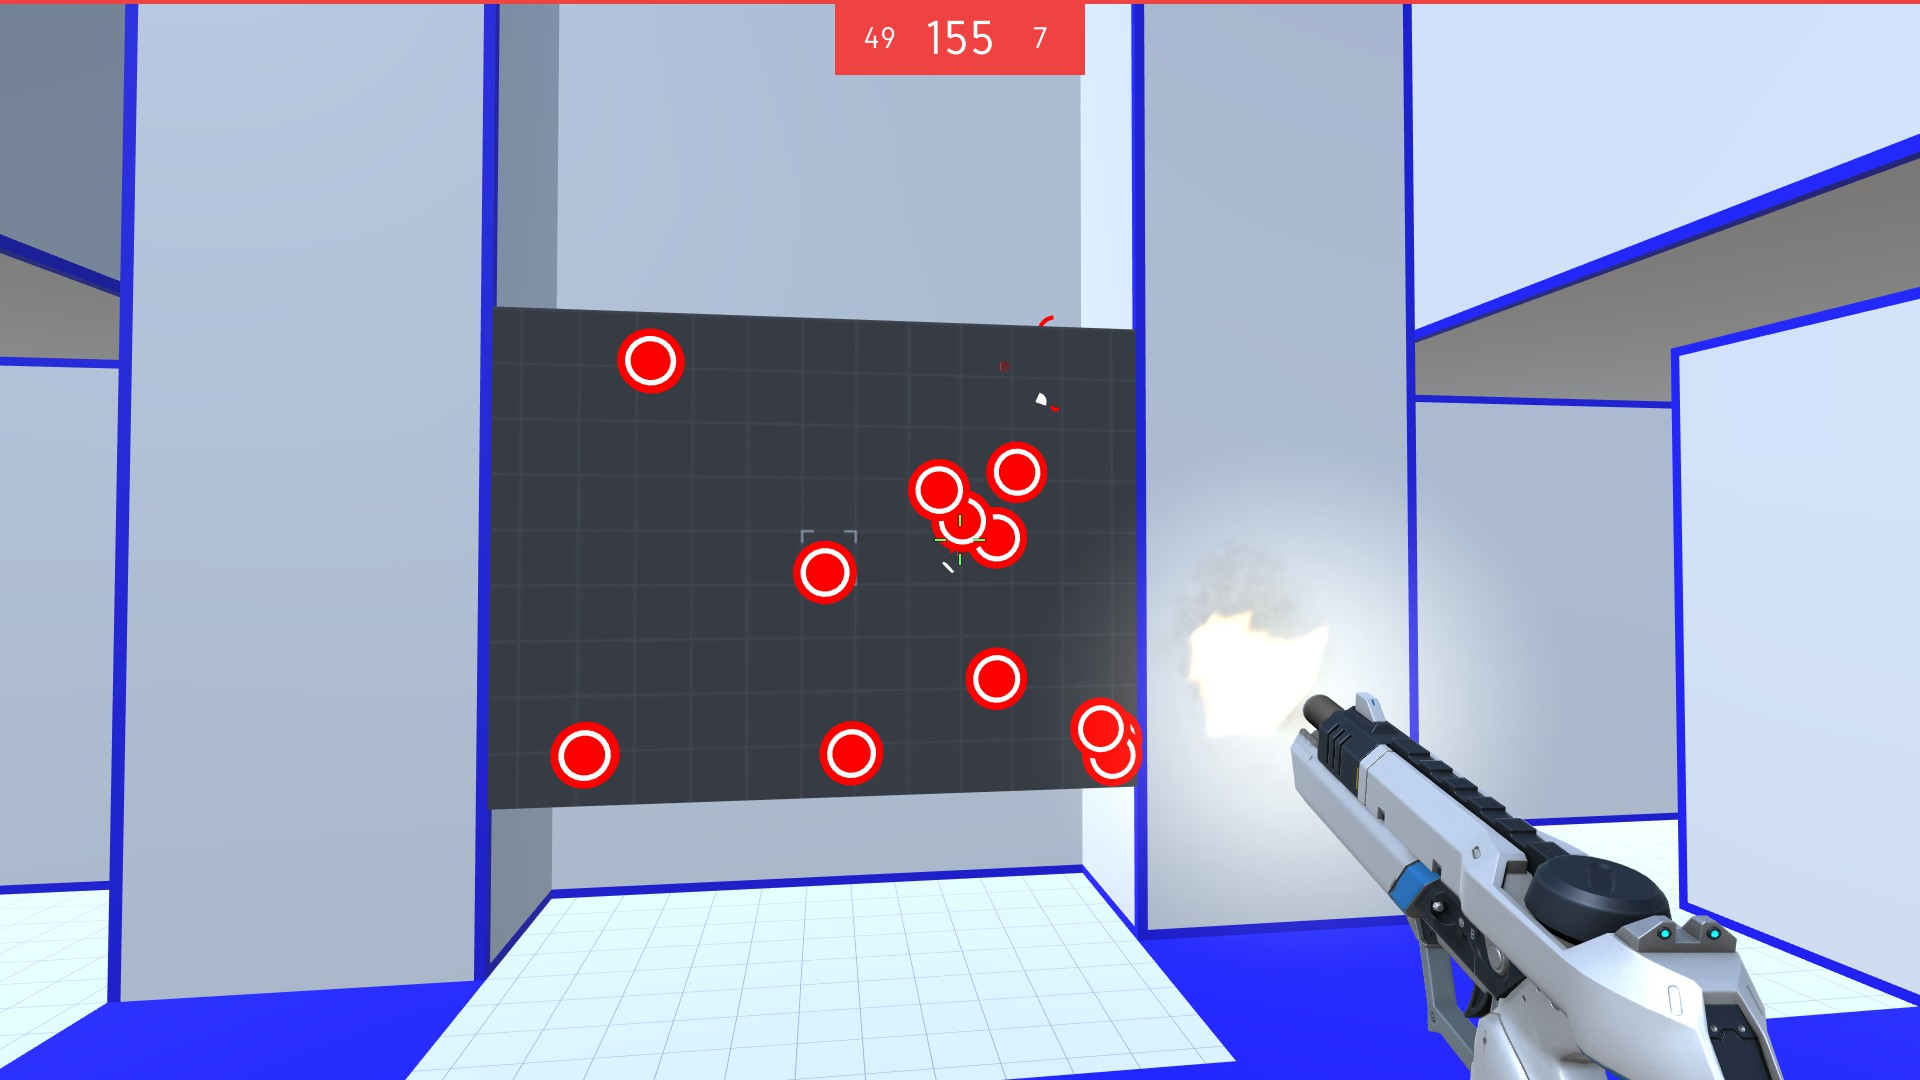target: (553, 717, 622, 794), (617, 326, 688, 396), (791, 535, 857, 607), (820, 716, 886, 787), (957, 645, 1029, 711), (905, 456, 971, 525), (964, 506, 1029, 574), (984, 440, 1054, 501), (1081, 723, 1143, 785), (935, 491, 992, 553), (1069, 694, 1124, 754)
